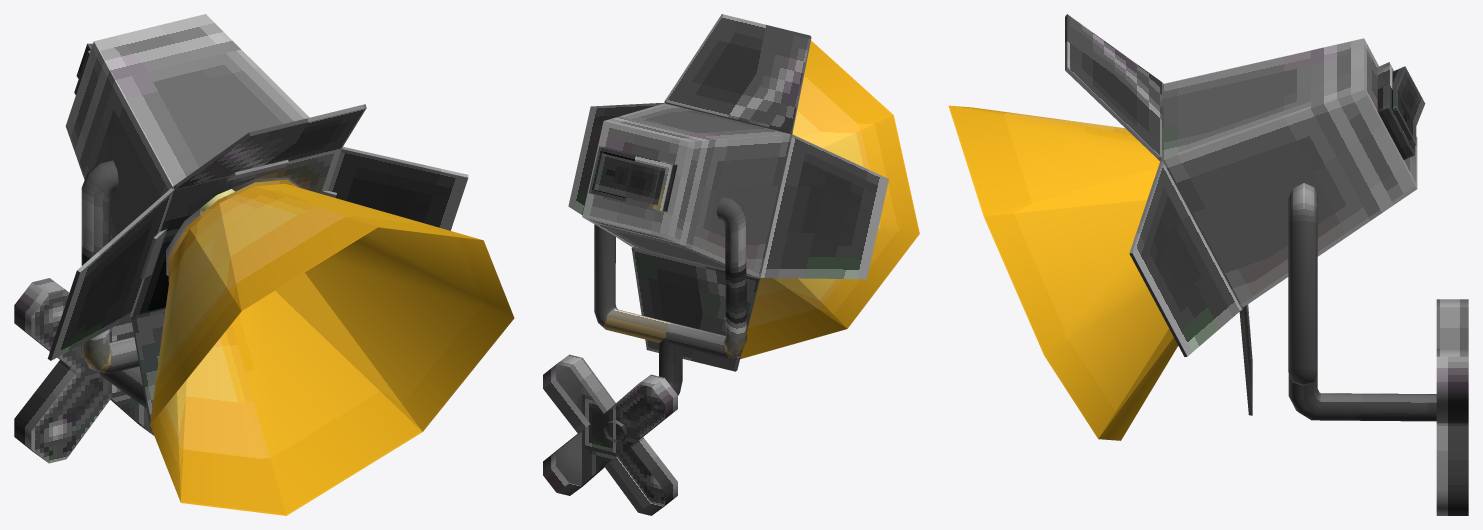
File: int_sdo_lamp_wall.dae
The picture shows the model from 3 angles, left to right: view 1: azimuth 30°, elevation 25°; view 2: azimuth 150°, elevation 25°; view 3: azimuth 270°, elevation 25°; orthographic projection. The views are drawn at different scales.
Parts seen in each view (by area): view 1: int_sdo_lamp_wall; view 2: int_sdo_lamp_wall; view 3: int_sdo_lamp_wall.
Part boxes in pixels (x1,y1,x2,y2): int_sdo_lamp_wall: (14,14,514,515); int_sdo_lamp_wall: (543,14,919,515); int_sdo_lamp_wall: (948,14,1468,515).
Bounding box in the file's own units: 23.49 × 27.14 × 28.66.
2 materials, 2 textured.
